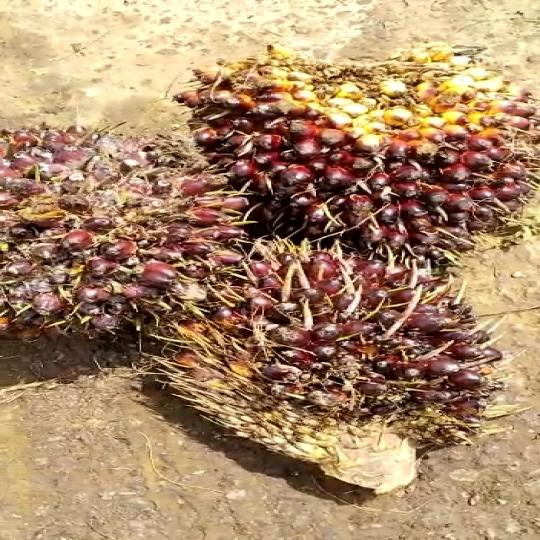kurang masak: (97, 231, 522, 512), (157, 43, 540, 280), (0, 112, 248, 348)
